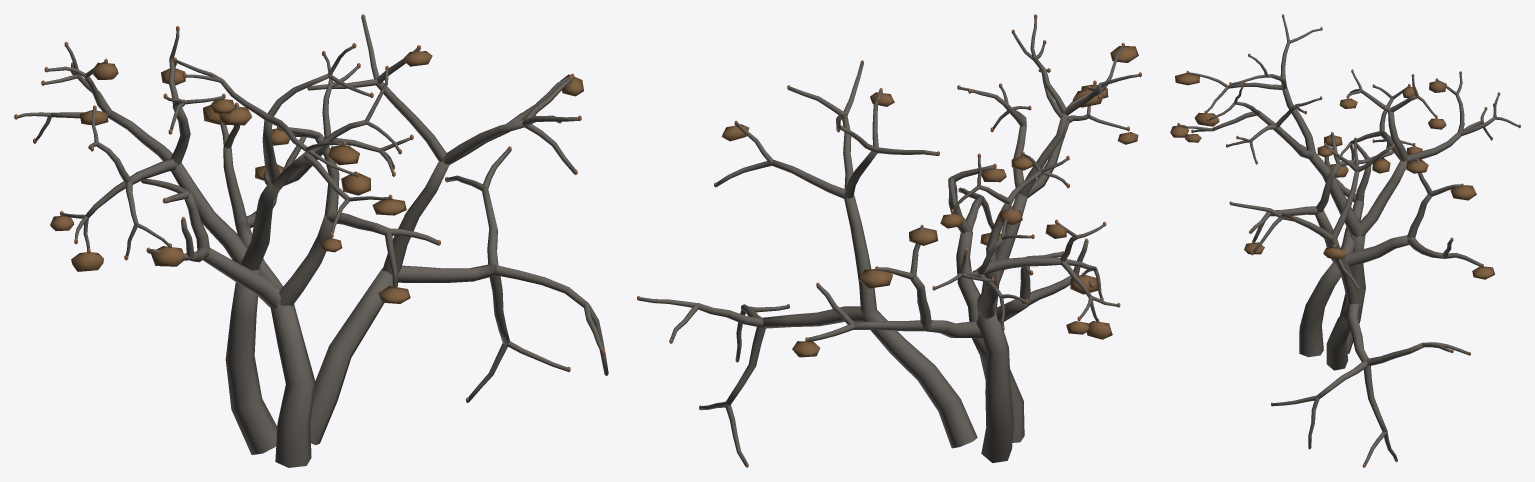
The model's file is scrub_oak_1.glb.
3 views of the same model, side by side, from view 1: azimuth 30°, elevation 25°; view 2: azimuth 150°, elevation 25°; view 3: azimuth 270°, elevation 25° (orthographic). The views are drawn at different scales.
Visible parts, largest first — view 1: ScrubOak_LimbWood_1, ScrubOak_LimbWood_0, ScrubOak_LimbWood_2; view 2: ScrubOak_LimbWood_1, ScrubOak_LimbWood_0, ScrubOak_LimbWood_2; view 3: ScrubOak_LimbWood_1, ScrubOak_LimbWood_2, ScrubOak_LimbWood_0.
Boxes of the visible parts, box(x1,y1,x2,y2) form: ScrubOak_LimbWood_1: box(17, 30, 410, 454); ScrubOak_LimbWood_0: box(310, 17, 608, 444); ScrubOak_LimbWood_2: box(142, 105, 438, 467); ScrubOak_LimbWood_1: box(935, 17, 1139, 462); ScrubOak_LimbWood_0: box(638, 62, 977, 466); ScrubOak_LimbWood_2: box(807, 165, 1094, 442); ScrubOak_LimbWood_1: box(1179, 16, 1518, 353); ScrubOak_LimbWood_2: box(1250, 133, 1481, 357); ScrubOak_LimbWood_0: box(1231, 139, 1469, 466).
Size of what is drawn, in the model's own units: 3.22 by 3.07 by 2.91.
